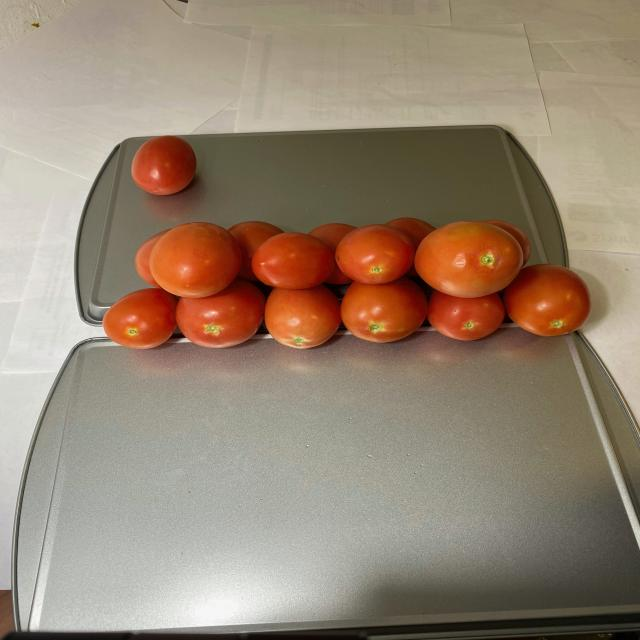tomato: (103, 218, 601, 352), (125, 135, 203, 198)
